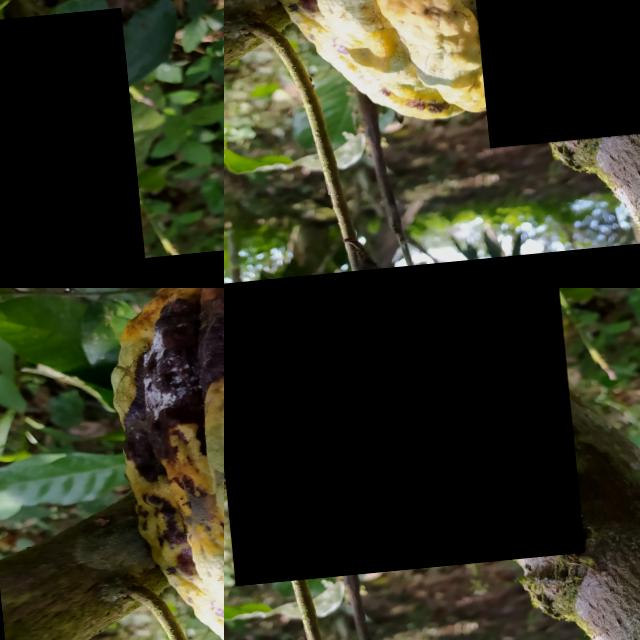Monilia: (224, 288, 573, 588)
Sana: (0, 17, 149, 288), (451, 0, 640, 155)
